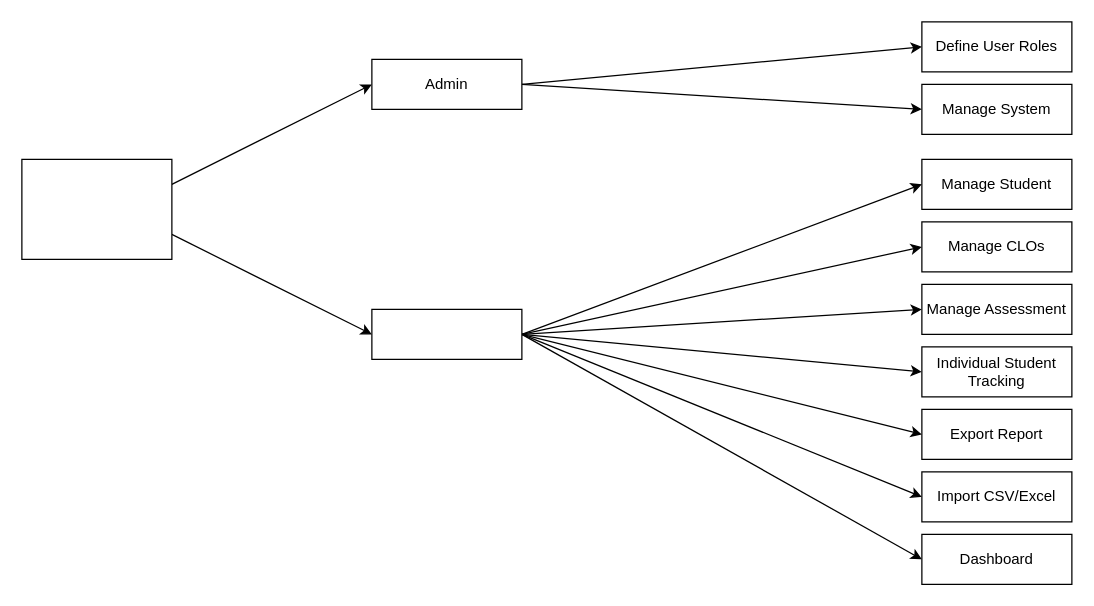
The diagram is 1094 pixels wide and 606 high, and some of its shapes have lost their labels. Each missing label, with the centre of its shape:
"Professor" belongs at point 446,333.
"System" belongs at point 96,208.
